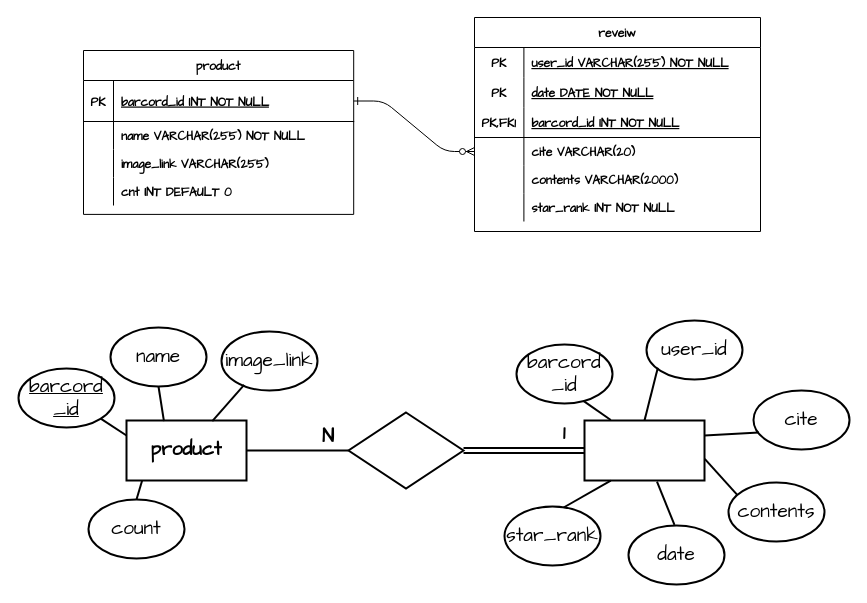
This 867x603 diagram has some shape labels left out. The shapes that lost their labels are listed below. From the top down, each one's centre as x and y in pixels, then its label:
At point 405,450: "has".
At point 644,450: "review".
